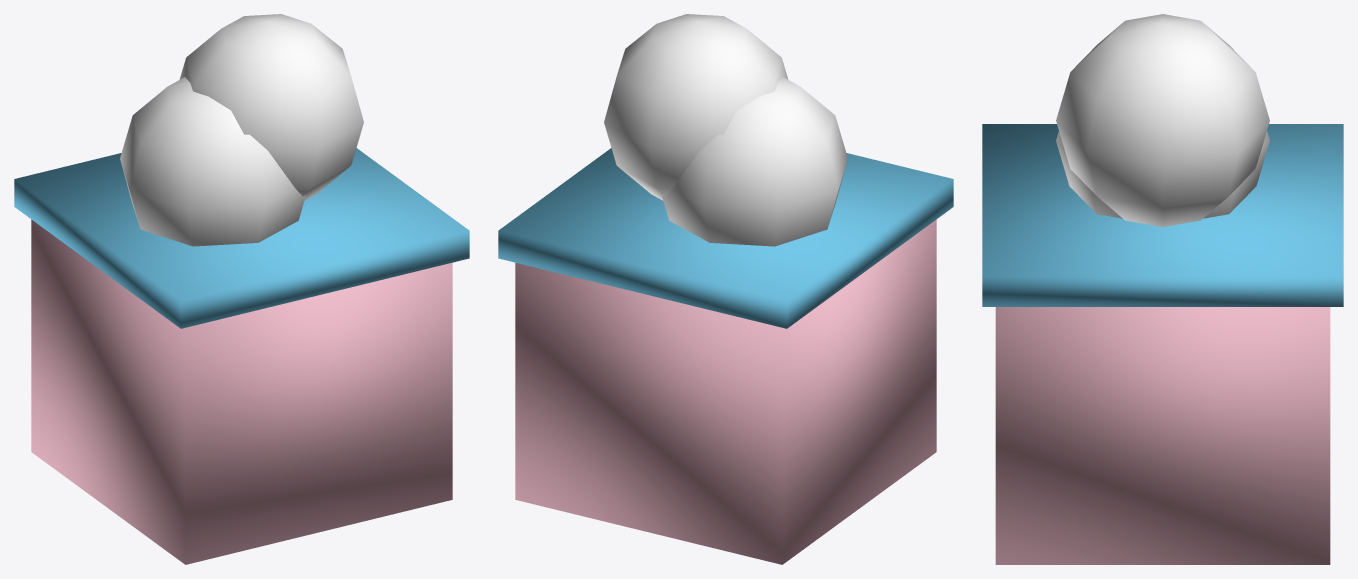
The model's file is pearl_shop.glb.
The picture shows the model from 3 angles, left to right: view 1: azimuth 30°, elevation 25°; view 2: azimuth 150°, elevation 25°; view 3: azimuth 270°, elevation 25°; orthographic projection. The views are drawn at different scales.
Parts seen in each view (by area): view 1: shop_body, shop_roof, shell_bot, shell_top; view 2: shop_body, shop_roof, shell_bot, shell_top; view 3: shop_body, shop_roof, shell_top, shell_bot.
Part boxes in pixels (x1,y1,x2,y2): shop_body: [31, 219, 452, 564]; shop_roof: [14, 148, 469, 328]; shell_bot: [120, 77, 305, 246]; shell_top: [179, 14, 363, 200]; shop_body: [515, 219, 936, 564]; shop_roof: [498, 148, 953, 328]; shell_bot: [662, 77, 847, 246]; shell_top: [604, 14, 788, 200]; shop_body: [995, 307, 1330, 564]; shop_roof: [982, 124, 1343, 306]; shell_top: [1056, 14, 1269, 226]; shell_bot: [1056, 131, 1269, 218].
Bounding box in the file's own units: 0.54 × 0.8 × 0.54.
